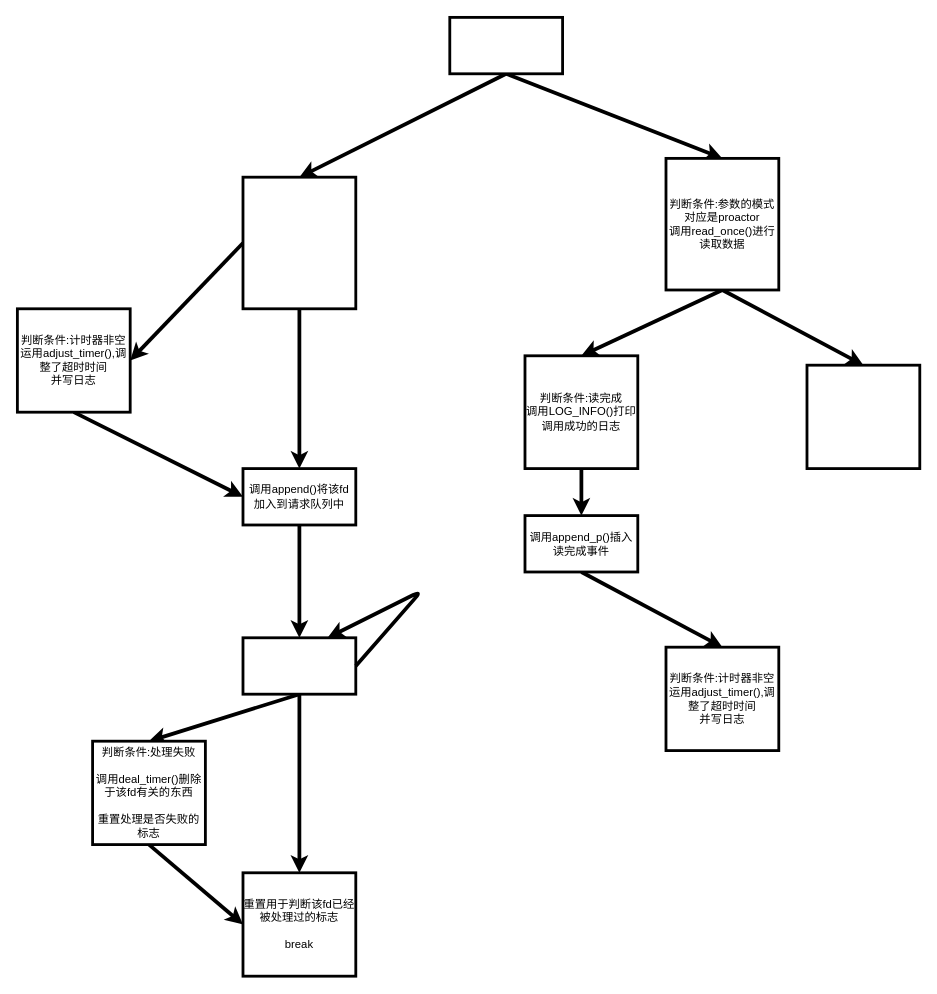
Some shapes in this 937 by 994 pixel diagram are drawn without their labels. The centre of each missing label's shape, as x and y in pixels:
"dealwithread()" belongs at point (506, 45).
"不断循环直到 判断条件:该fd已经被处理过" belongs at point (299, 665).
"判断条件:参数的模式对应是reactor" belongs at point (299, 242).
"判断条件:未能读完成 调用deal_timer()删除于该fd有关的东西" belongs at point (863, 416).
